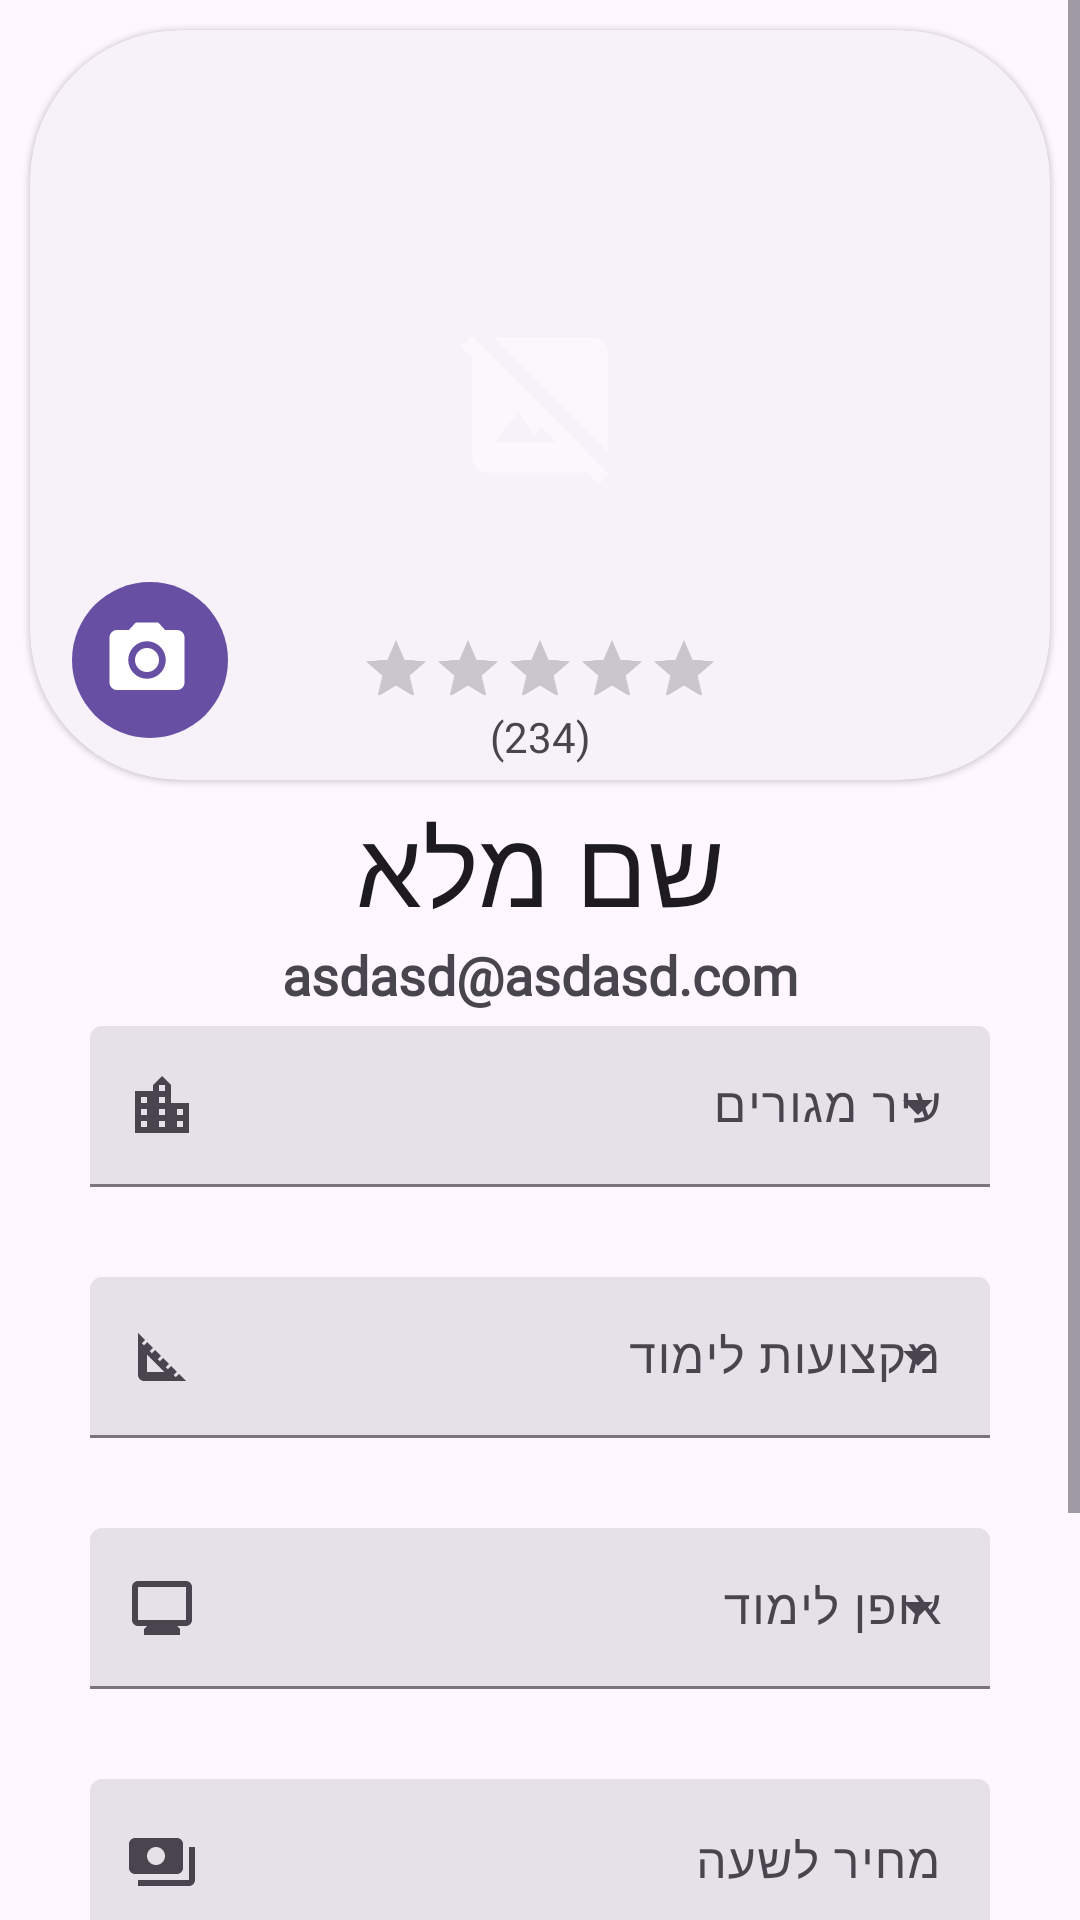

Screen size 1080 x 1920. Icon name, then its center in pixels as (x=x, y=y):
camera: (x=150, y=660)
